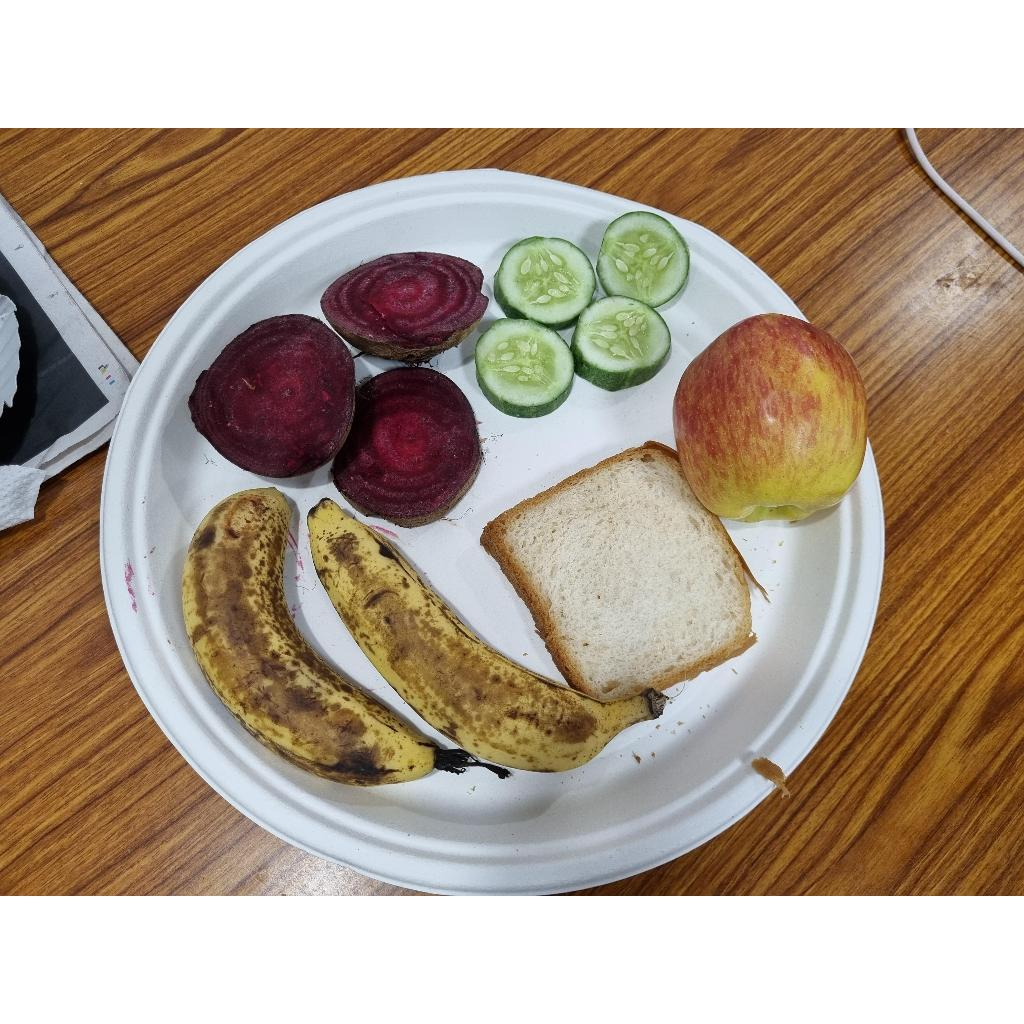apple: (674, 315, 869, 525)
banana: (301, 503, 666, 775), (179, 489, 473, 788)
cucumber: (472, 316, 578, 419), (587, 211, 691, 312), (493, 237, 602, 333), (574, 294, 673, 394)
